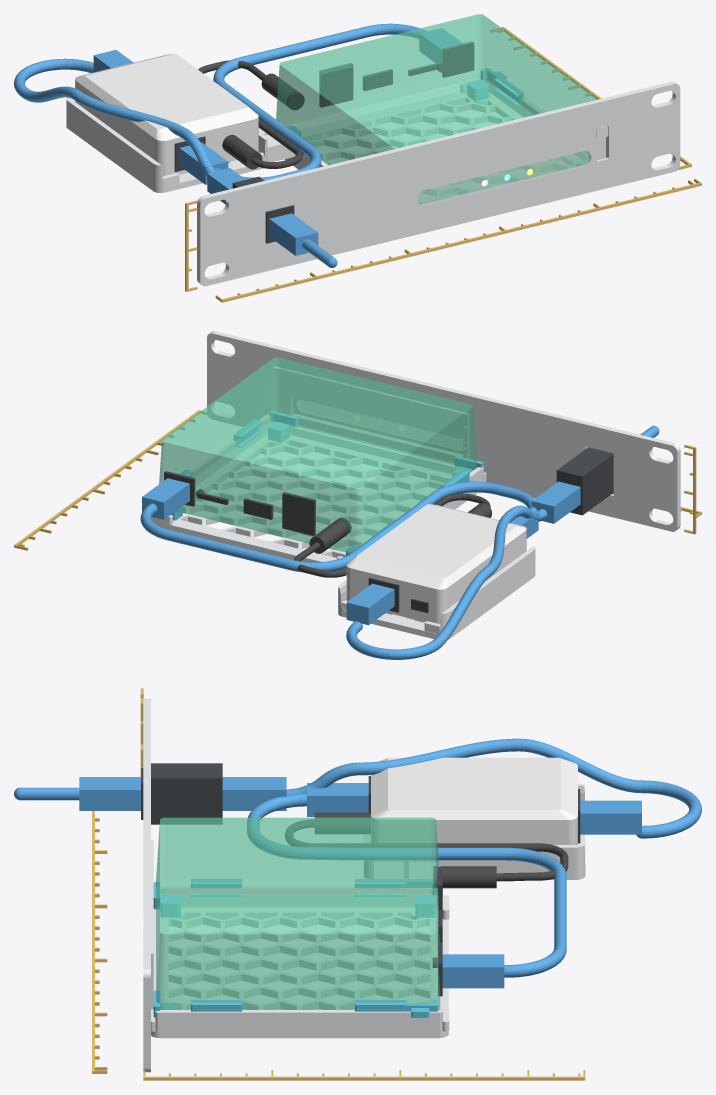
File: home-assistant-green-rack-front_ethernet_left.glb
The picture shows the model from 3 angles, top to bottom: view 1: azimuth 30°, elevation 25°; view 2: azimuth 150°, elevation 25°; view 3: azimuth 270°, elevation 25°; orthographic projection. The views are drawn at different scales.
Parts seen in each view (by area): view 1: White rack mount, Home Assistant Green, TP-Link TL-PD30G-M2, Green tray — standard, Front keystone → TP-Link PoE jumper, Internal Ethernet cable, 10 mm dimension rulers, Home Assistant Green connector faces, TP-Link cradle side walls, LED window insert, DC cable, Green retention — segmented rails + rear latch (+3 smaller); view 2: Home Assistant Green, White rack mount, Green tray — standard, TP-Link TL-PD30G-M2, LED shutter retainer, Front keystone → TP-Link PoE jumper, Internal Ethernet cable, Front keystone coupler, Home Assistant Green connector faces, LED window insert, TP-Link cradle side walls, Green retention — segmented rails + rear latch (+4 smaller); view 3: Home Assistant Green, Green tray — standard, TP-Link TL-PD30G-M2, Front keystone → TP-Link PoE jumper, Internal Ethernet cable, DC cable, Green retention — segmented rails + rear latch, Front keystone coupler, 10 mm dimension rulers, White rack mount, TP-Link cradle side walls, Home Assistant Green connector faces.
Part boxes in pixels (bbox=[...]): White rack mount: bbox=[197, 81, 680, 286]; Home Assistant Green: bbox=[276, 14, 597, 204]; TP-Link TL-PD30G-M2: bbox=[75, 54, 258, 176]; Green tray — standard: bbox=[285, 78, 544, 169]; Front keystone → TP-Link PoE jumper: bbox=[14, 50, 337, 267]; Internal Ethernet cable: bbox=[179, 23, 462, 184]; 10 mm dimension rulers: bbox=[185, 26, 701, 302]; Home Assistant Green connector faces: bbox=[286, 42, 474, 110]; TP-Link cradle side walls: bbox=[66, 97, 267, 187]; LED window insert: bbox=[417, 151, 591, 205]; DC cable: bbox=[198, 60, 302, 169]; Green retention — segmented rails + rear latch: bbox=[276, 68, 587, 165]; Home Assistant Green: bbox=[159, 357, 476, 553]; White rack mount: bbox=[207, 331, 680, 531]; Green tray — standard: bbox=[151, 414, 486, 570]; TP-Link TL-PD30G-M2: bbox=[346, 504, 526, 623]; LED shutter retainer: bbox=[273, 366, 468, 457]; Front keystone → TP-Link PoE jumper: bbox=[346, 425, 659, 659]; Internal Ethernet cable: bbox=[140, 478, 538, 572]; Front keystone coupler: bbox=[556, 447, 613, 515]; Home Assistant Green connector faces: bbox=[164, 471, 351, 535]; LED window insert: bbox=[293, 399, 462, 453]; TP-Link cradle side walls: bbox=[338, 546, 535, 634]; Green retention — segmented rails + rear latch: bbox=[171, 411, 483, 555]; Home Assistant Green: bbox=[156, 817, 440, 1009]; Green tray — standard: bbox=[151, 886, 449, 1038]; TP-Link TL-PD30G-M2: bbox=[371, 757, 577, 844]; Front keystone → TP-Link PoE jumper: bbox=[14, 738, 701, 838]; Internal Ethernet cable: bbox=[247, 783, 566, 988]; DC cable: bbox=[285, 812, 568, 888]; Green retention — segmented rails + rear latch: bbox=[153, 879, 438, 1017]; Front keystone coupler: bbox=[141, 763, 222, 824]; 10 mm dimension rulers: bbox=[92, 688, 585, 1080]; White rack mount: bbox=[143, 699, 438, 1072]; TP-Link cradle side walls: bbox=[364, 783, 585, 873]; Home Assistant Green connector faces: bbox=[432, 866, 442, 996].
Size of what is drawn, in the model's own units: 268 by 44.45 by 269.
